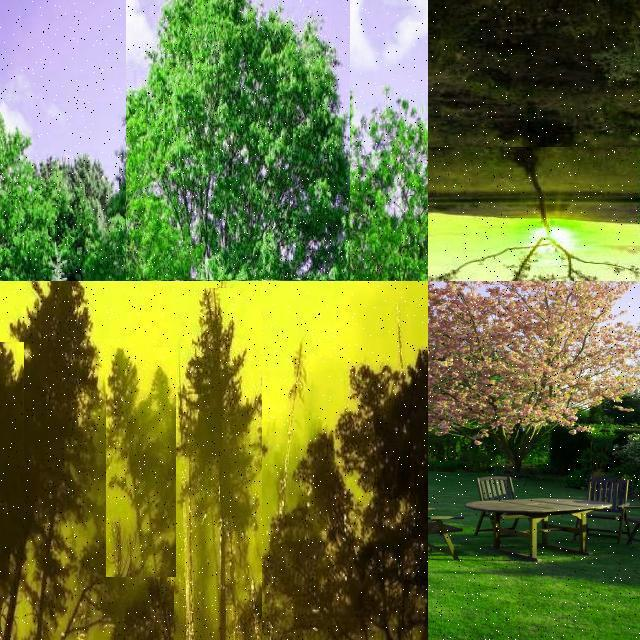tree: (126, 0, 350, 280), (256, 354, 428, 640), (0, 280, 102, 640), (428, 281, 640, 451), (174, 288, 262, 640), (428, 147, 640, 281), (106, 347, 176, 577), (0, 58, 68, 282), (384, 312, 428, 640), (0, 387, 20, 640), (0, 342, 24, 514), (428, 366, 462, 406), (428, 377, 464, 411)
